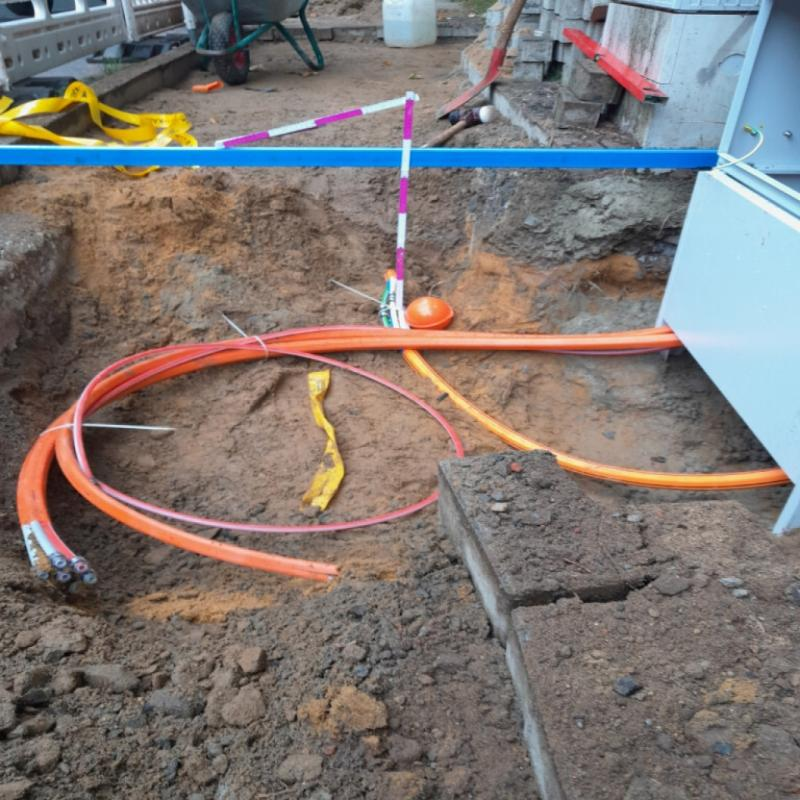Kugelmarker: (404, 297, 452, 332)
Orang-Speednetrohrchen: (16, 328, 792, 586)
